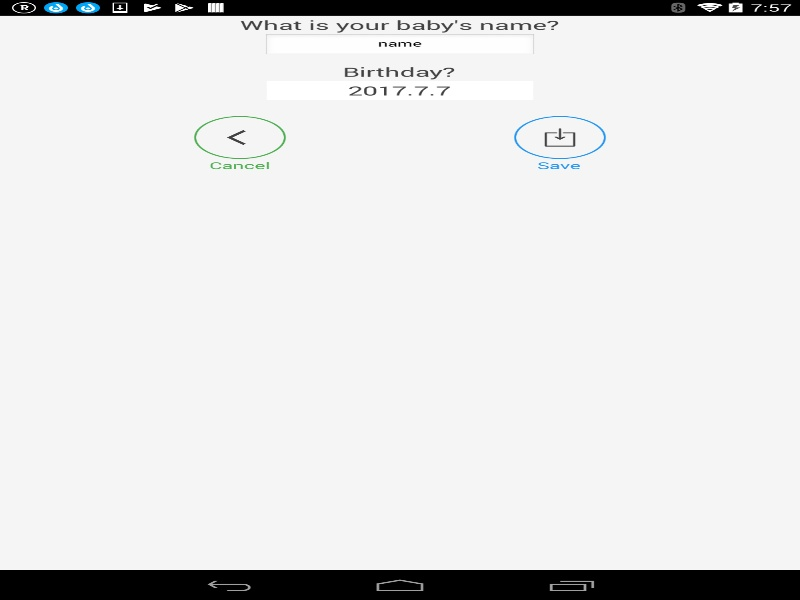Input: (263, 33, 536, 56)
